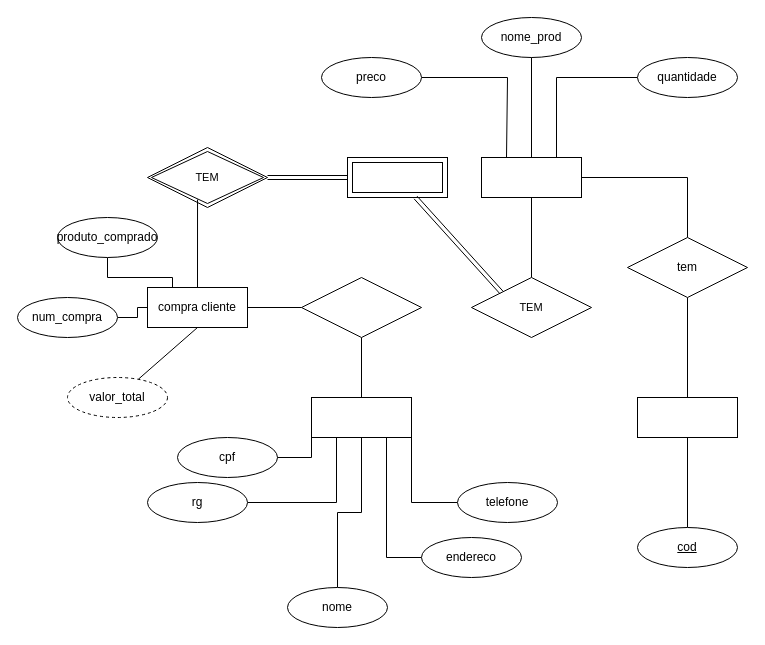
Image size: 765x645. Some labels were removed from this diagram. Here are the shapes that lost their labels. From the top down, the centre of each, then its label:
[397,177]: ITEM
[531,177]: produto
[361,307]: FAZ
[361,417]: cliente
[687,417]: tipo
